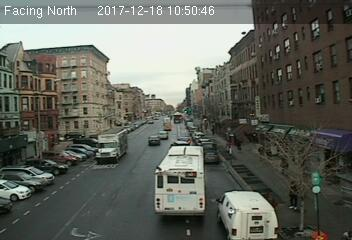bus: (152, 144, 208, 216)
car: (203, 150, 221, 164), (147, 135, 161, 145)
pedestrian: (288, 176, 305, 214)
truck: (218, 189, 280, 240), (94, 129, 127, 162)
